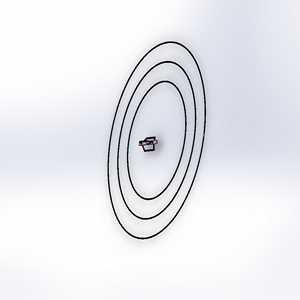circle: (100, 35, 221, 252)
submarine: (135, 130, 160, 159)
